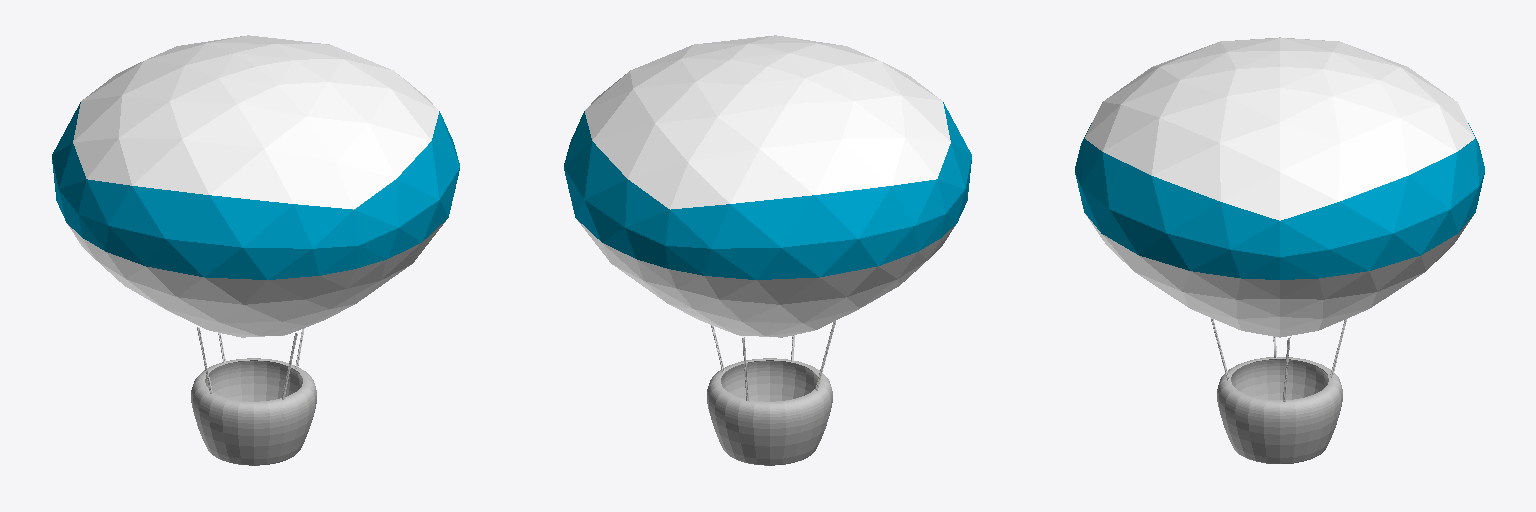
The model's file is ballon.obj.
3 views of the same model, side by side, from view 1: azimuth 30°, elevation 25°; view 2: azimuth 150°, elevation 25°; view 3: azimuth 270°, elevation 25° (orthographic).
Visible parts, largest first — view 1: 气球, 底座; view 2: 气球, 底座; view 3: 气球, 底座.
Part boxes in pixels (x1,y1,x2,y2): 气球: (52,35,459,337); 底座: (191,358,316,465); 气球: (564,35,971,337); 底座: (707,358,832,465); 气球: (1075,37,1484,337); 底座: (1217,357,1342,463).
Bounding box in the file's own units: 576 × 586 × 576.